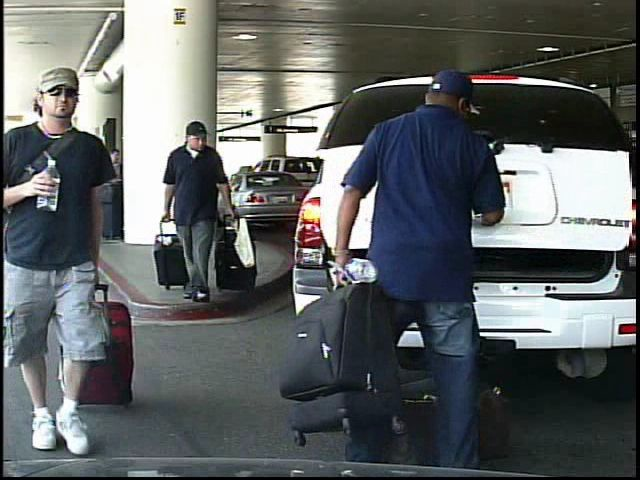person: (333, 74, 525, 474), (5, 72, 148, 465), (157, 117, 251, 305)
